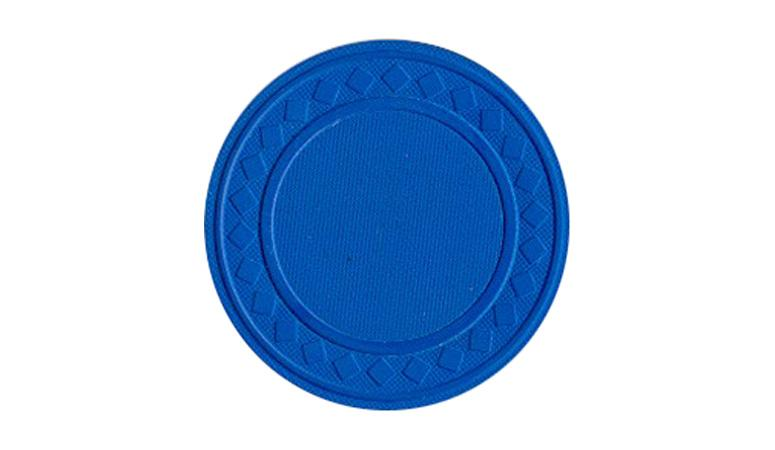chip-blue: (204, 41, 569, 409)
